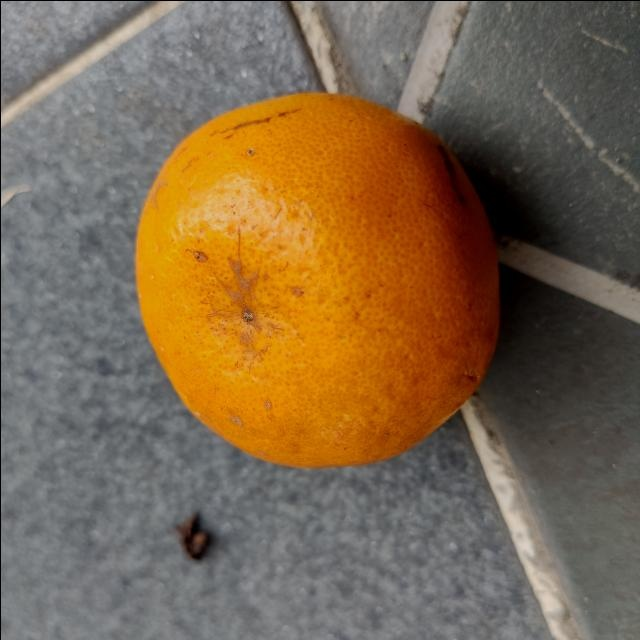agrume: (130, 91, 506, 472)
